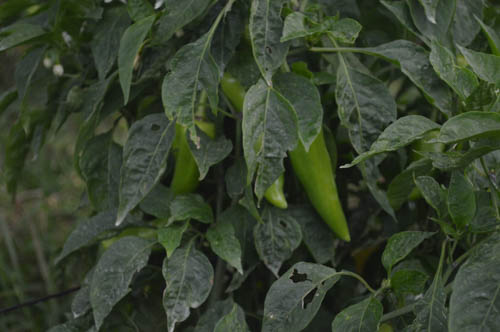ChiliPepper: (292, 132, 355, 242), (175, 120, 212, 195)
